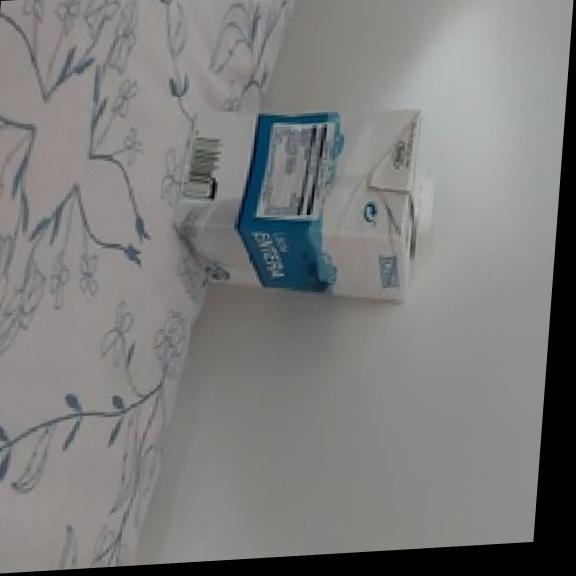Kertas: (175, 111, 422, 302)
